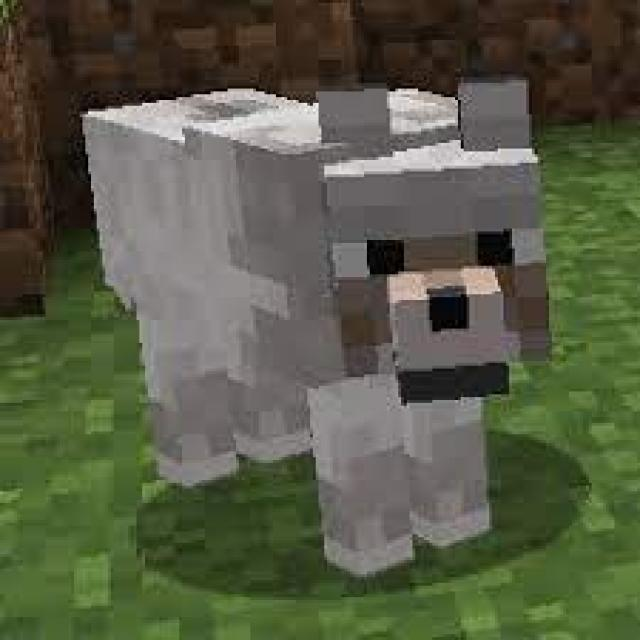Wolf: (78, 81, 550, 576)
